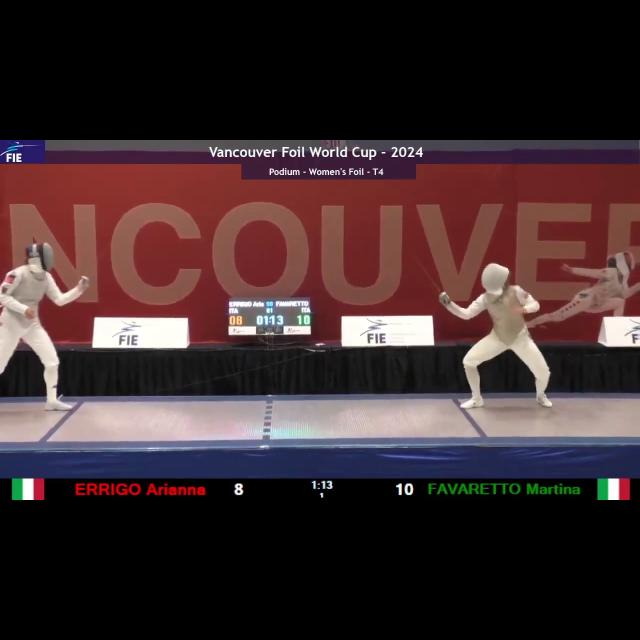blade: (410, 250, 450, 302)
